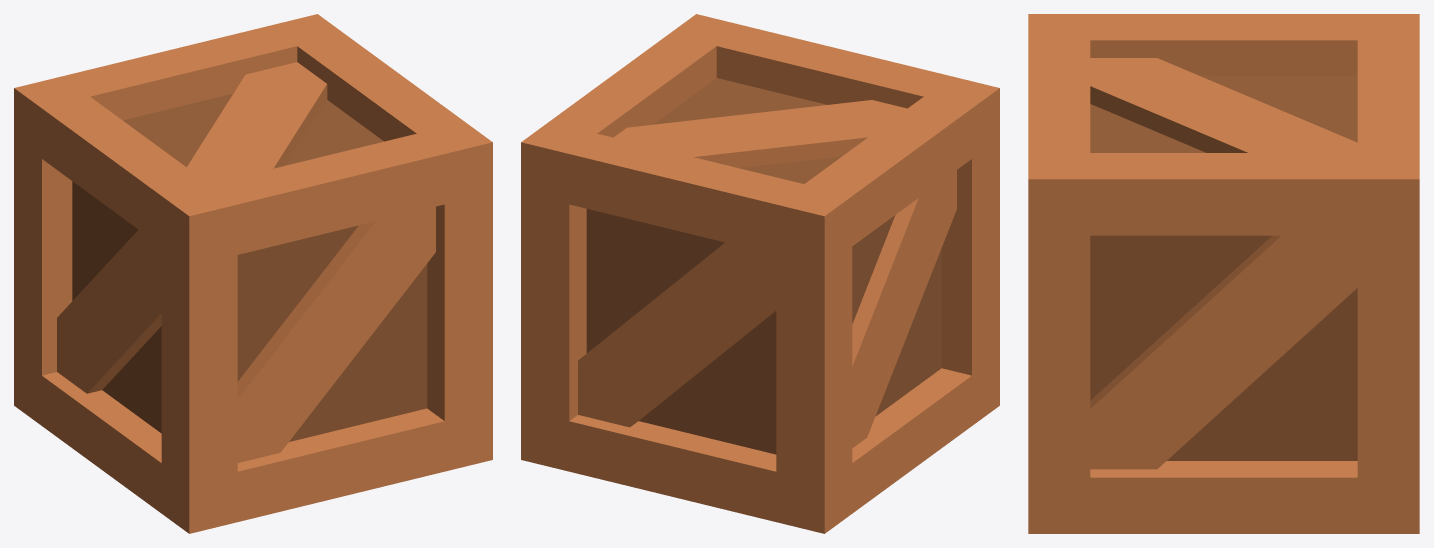
Rendered from Crate.glb.
3 views of the same model, side by side, from view 1: azimuth 30°, elevation 25°; view 2: azimuth 150°, elevation 25°; view 3: azimuth 270°, elevation 25° (orthographic). The views are drawn at different scales.
Parts seen in each view (by area): view 1: crate; view 2: crate; view 3: crate.
Part boxes in pixels (x1,y1,x2,y2): crate: (14,14,492,533); crate: (521,14,999,533); crate: (1028,14,1419,533).
Size of the model in its own units: 1.98 by 1.98 by 1.98.
